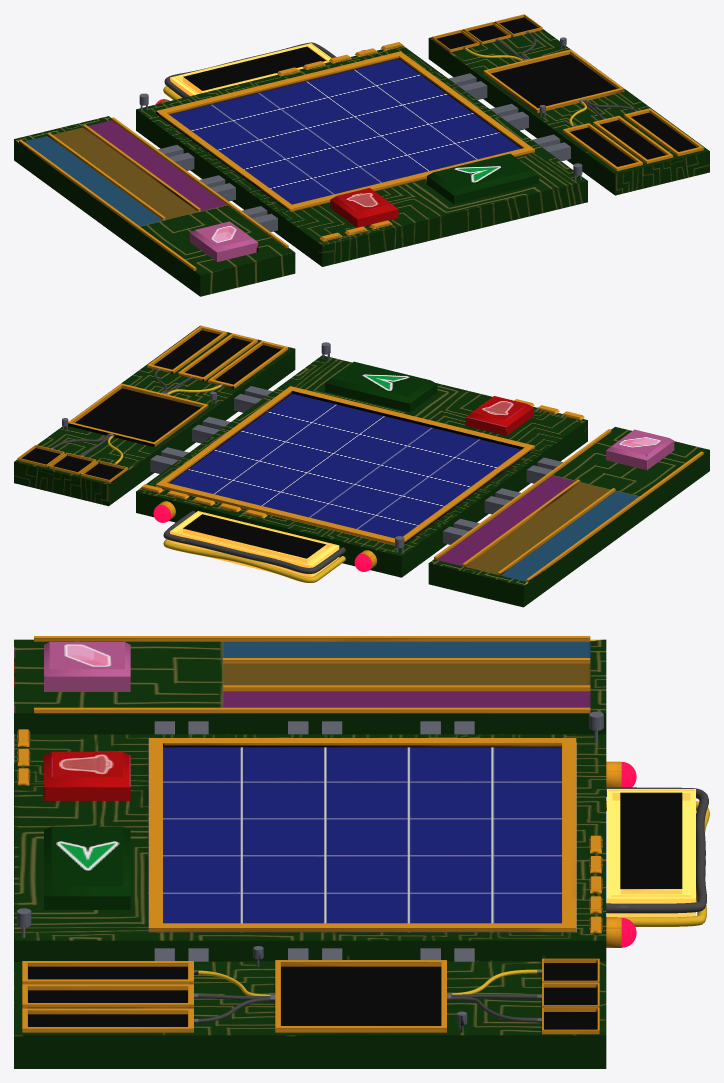
Rendered from Mesa_Shaders.fbx.
The picture shows the model from 3 angles, top to bottom: view 1: azimuth 30°, elevation 25°; view 2: azimuth 150°, elevation 25°; view 3: azimuth 270°, elevation 25°; orthographic projection. The views are drawn at different scales.
Parts seen in each view (by area): view 1: Mesa_Central, Mesa_Izquierda, Mesa_Derecha, Pantalla_Central, Boton_Derecha, Cube.001, Soporte_01, Soporte_Lateral_04, Pantallas_Abajo, Boton_Izquierda.002, Boton_Izquierda.001, Pantalla_Derecha (+4 smaller); view 2: Mesa_Central, Mesa_Izquierda, Mesa_Derecha, Pantalla_Central, Cube.001, Boton_Derecha, Soporte_01, Soporte_Lateral_04, Pantallas_Abajo, Boton_Izquierda.002, Boton_Izquierda.001, Pantalla_Derecha (+5 smaller); view 3: Mesa_Central, Mesa_Derecha, Mesa_Izquierda, Pantalla_Central, Soporte_Lateral_04, Cube.001, Boton_Derecha, Pantallas_Abajo, Boton_Izquierda.002, Boton_Izquierda.001, Soporte_01, Pantalla_Derecha (+7 smaller).
Boxes of the visible parts, bbox=[...] form: Mesa_Central: bbox=[136, 46, 587, 266]; Mesa_Izquierda: bbox=[14, 116, 295, 296]; Mesa_Derecha: bbox=[428, 17, 709, 195]; Pantalla_Central: bbox=[156, 51, 534, 211]; Boton_Derecha: bbox=[427, 153, 539, 204]; Cube.001: bbox=[170, 43, 331, 98]; Soporte_01: bbox=[158, 73, 570, 231]; Soporte_Lateral_04: bbox=[19, 117, 288, 270]; Pantallas_Abajo: bbox=[563, 108, 704, 171]; Boton_Izquierda.002: bbox=[190, 221, 258, 261]; Boton_Izquierda.001: bbox=[330, 188, 398, 227]; Pantalla_Derecha: bbox=[483, 49, 624, 112]; Mesa_Central: bbox=[136, 355, 587, 577]; Mesa_Izquierda: bbox=[428, 426, 709, 607]; Mesa_Derecha: bbox=[14, 325, 295, 506]; Pantalla_Central: bbox=[156, 386, 534, 545]; Cube.001: bbox=[170, 511, 339, 576]; Boton_Derecha: bbox=[325, 361, 437, 412]; Soporte_01: bbox=[150, 386, 562, 544]; Soporte_Lateral_04: bbox=[434, 429, 703, 582]; Pantallas_Abajo: bbox=[147, 326, 288, 388]; Boton_Izquierda.002: bbox=[606, 429, 674, 469]; Boton_Izquierda.001: bbox=[465, 396, 533, 435]; Pantalla_Derecha: bbox=[68, 383, 208, 447]; Mesa_Central: bbox=[14, 734, 606, 961]; Mesa_Derecha: bbox=[14, 961, 606, 1068]; Mesa_Izquierda: bbox=[14, 639, 606, 734]; Pantalla_Central: bbox=[148, 738, 576, 932]; Soporte_Lateral_04: bbox=[34, 636, 590, 713]; Cube.001: bbox=[607, 789, 695, 917]; Boton_Derecha: bbox=[44, 826, 130, 909]; Pantallas_Abajo: bbox=[22, 961, 193, 1032]; Boton_Izquierda.002: bbox=[44, 642, 130, 691]; Boton_Izquierda.001: bbox=[44, 751, 130, 800]; Soporte_01: bbox=[154, 721, 474, 961]; Pantalla_Derecha: bbox=[275, 960, 446, 1032].
Bounding box in the file's own units: 268 × 18.23 × 200.
